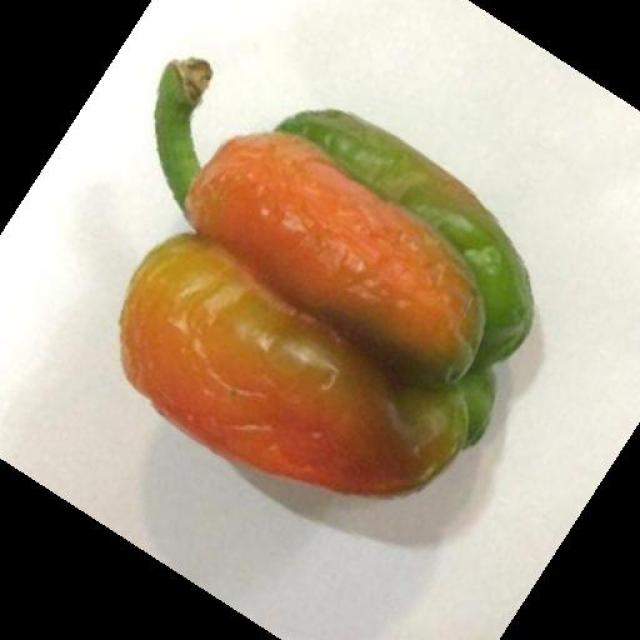Stale_Capsicum: (140, 106, 510, 490)
